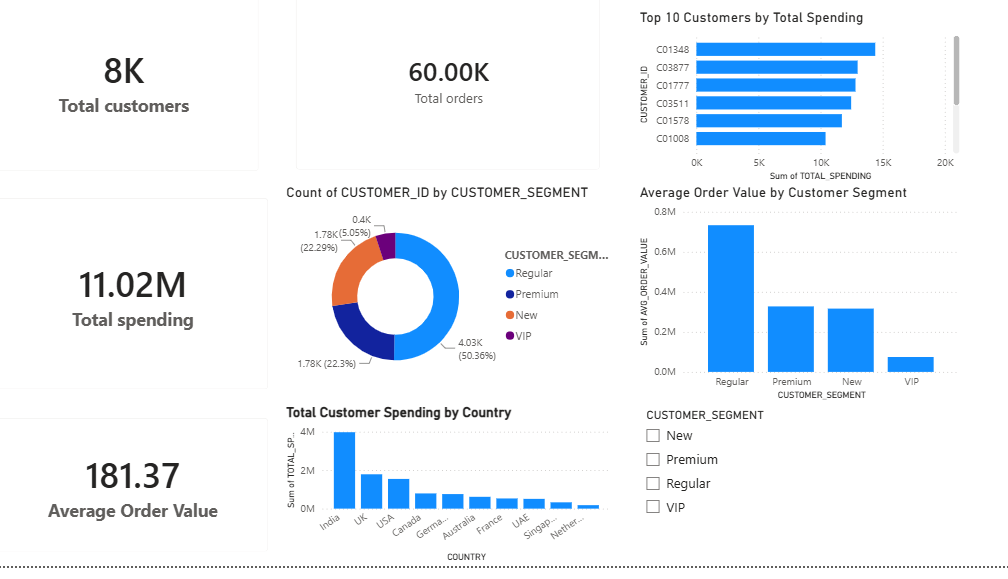

The page's visual inventory and layout, read from the dashboard file:
{"tool":"powerbi","page":{"name":"customer intelligence","canvas":[1280,720],"ordinal":0},"visuals":[{"type":"cardVisual","fields":{"Data":["CountNonNull(VW_CUSTOMER_INTELLIGENCE.CUSTOMER_ID)"]},"box":[10,0,365,256.7],"z":0},{"type":"cardVisual","fields":{"Data":["Sum(VW_CUSTOMER_INTELLIGENCE.TOTAL_SPENDING)"]},"box":[10,256.7,365,266.7],"z":1},{"type":"cardVisual","fields":{"Data":["Avg(VW_CUSTOMER_INTELLIGENCE.AVG_ORDER_VALUE)"]},"box":[10,523.3,365,196.7],"z":2},{"type":"cardVisual","fields":{"Data":["Sum(VW_CUSTOMER_INTELLIGENCE.TOTAL_ORDERS)"]},"box":[375,0,403.3,256.7],"z":3},{"type":"donutChart","fields":{"Category":["VW_CUSTOMER_INTELLIGENCE.CUSTOMER_SEGMENT"],"Y":["CountNonNull(VW_CUSTOMER_INTELLIGENCE.CUSTOMER_ID)"]},"box":[375,256.7,403.3,253.3],"z":4},{"type":"clusteredColumnChart","title":"Total Customer Spending by Country","fields":{"Category":["VW_CUSTOMER_INTELLIGENCE.COUNTRY"],"Y":["Sum(VW_CUSTOMER_INTELLIGENCE.TOTAL_SPENDING)"]},"box":[375,523.3,403.3,196.7],"z":5},{"type":"clusteredBarChart","title":"Top 10 Customers by Total Spending","fields":{"Category":["VW_CUSTOMER_INTELLIGENCE.CUSTOMER_ID"],"Y":["Sum(VW_CUSTOMER_INTELLIGENCE.TOTAL_SPENDING)"]},"box":[805,43.3,398.3,213.3],"z":6},{"type":"clusteredColumnChart","title":"Average Order Value by Customer Segment","fields":{"Category":["VW_CUSTOMER_INTELLIGENCE.CUSTOMER_SEGMENT"],"Y":["Sum(VW_CUSTOMER_INTELLIGENCE.AVG_ORDER_VALUE)"]},"box":[805,256.7,398.3,266.7],"z":7},{"type":"slicer","fields":{"Values":["VW_CUSTOMER_INTELLIGENCE.CUSTOMER_SEGMENT"]},"box":[805,523.3,398.3,196.7],"z":8}]}

Visuals, with their boxes in screenshot pixels (x1, y1, x2, y2), scaled from the page's 1280x720 canvas onto the 1008x579 screenshot:
cardVisual - CountNonNull(VW_CUSTOMER_INTELLIGENCE.CUSTOMER_ID): (x1=8, y1=0, x2=295, y2=206)
cardVisual - Sum(VW_CUSTOMER_INTELLIGENCE.TOTAL_SPENDING): (x1=8, y1=206, x2=295, y2=421)
cardVisual - Avg(VW_CUSTOMER_INTELLIGENCE.AVG_ORDER_VALUE): (x1=8, y1=421, x2=295, y2=578)
cardVisual - Sum(VW_CUSTOMER_INTELLIGENCE.TOTAL_ORDERS): (x1=295, y1=0, x2=613, y2=206)
donutChart - VW_CUSTOMER_INTELLIGENCE.CUSTOMER_SEGMENT x CountNonNull(VW_CUSTOMER_INTELLIGENCE.CUSTOMER_ID): (x1=295, y1=206, x2=613, y2=410)
"Total Customer Spending by Country" clusteredColumnChart: (x1=295, y1=421, x2=613, y2=578)
"Top 10 Customers by Total Spending" clusteredBarChart: (x1=634, y1=35, x2=948, y2=206)
"Average Order Value by Customer Segment" clusteredColumnChart: (x1=634, y1=206, x2=948, y2=421)
slicer - VW_CUSTOMER_INTELLIGENCE.CUSTOMER_SEGMENT: (x1=634, y1=421, x2=948, y2=578)
